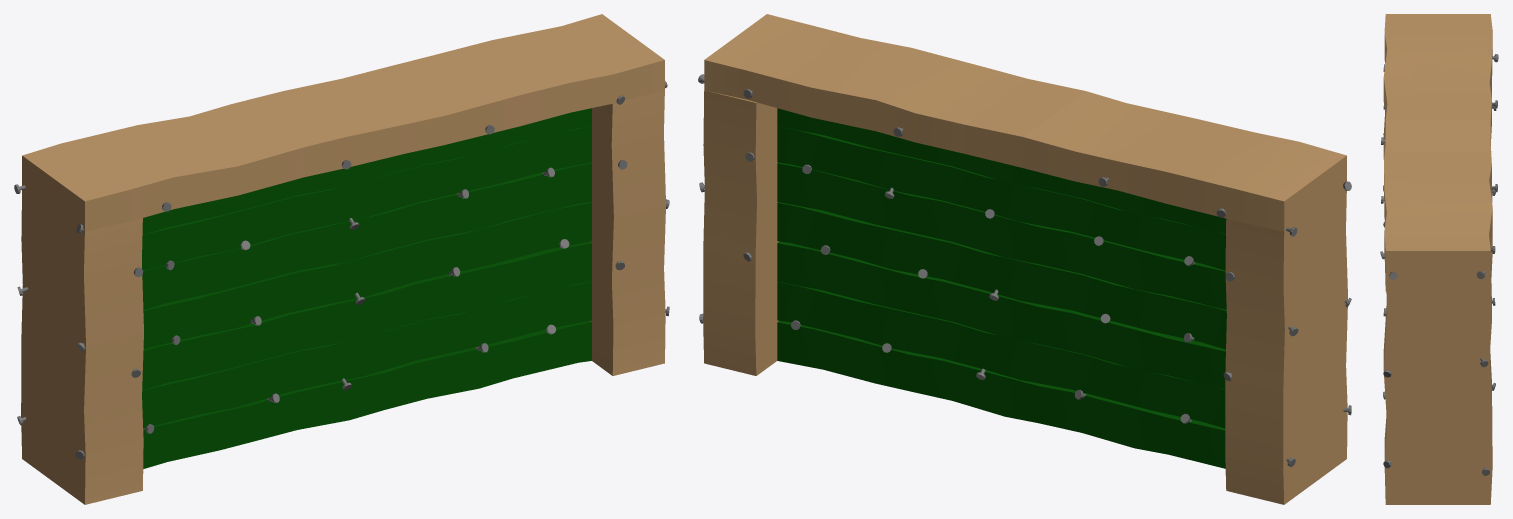
File: SM_MovingWall_Planks 2.fbx
3 renders of one model, left to right at view 1: azimuth 30°, elevation 25°; view 2: azimuth 150°, elevation 25°; view 3: azimuth 270°, elevation 25°, orthographic. The views are drawn at different scales.
Parts seen in each view (by area): view 1: SM_MovingWall_Door, SM_MovingWall_Frame1; view 2: SM_MovingWall_Door, SM_MovingWall_Frame1; view 3: SM_MovingWall_Frame1.
Boxes of the visible parts, box(x1,y1,x2,y2) form: SM_MovingWall_Door: box(142, 108, 591, 468); SM_MovingWall_Frame1: box(14, 14, 669, 504); SM_MovingWall_Door: box(777, 108, 1226, 468); SM_MovingWall_Frame1: box(698, 14, 1351, 504); SM_MovingWall_Frame1: box(1380, 14, 1498, 504).
Size of the model in its own units: 826 by 402 by 169.
